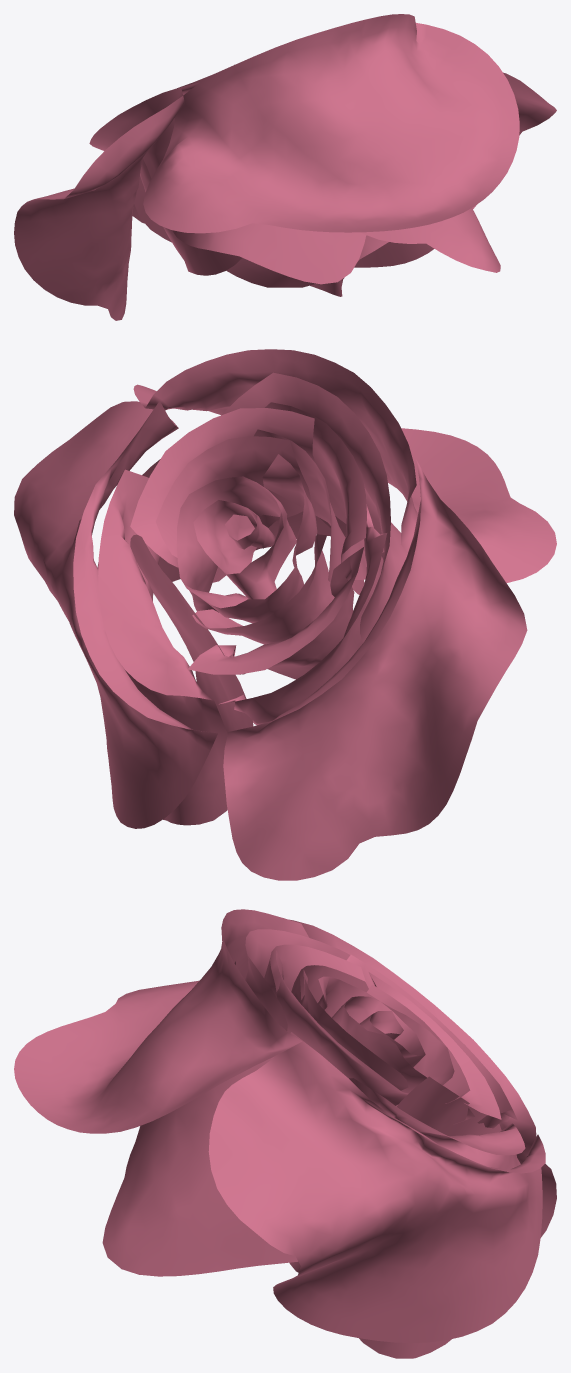
The model's file is user-flower.glb.
3 renders of one model, top to bottom at view 1: azimuth 30°, elevation 25°; view 2: azimuth 150°, elevation 25°; view 3: azimuth 270°, elevation 25°, orthographic. The views are drawn at different scales.
Parts seen in each view (by area): view 1: User flower · normalized original OBJ; view 2: User flower · normalized original OBJ; view 3: User flower · normalized original OBJ.
Boxes of the visible parts, box(x1,y1,x2,y2) form: User flower · normalized original OBJ: box(14, 14, 556, 320); User flower · normalized original OBJ: box(14, 349, 556, 880); User flower · normalized original OBJ: box(14, 909, 556, 1358).
Bounding box in the file's own units: 1 × 0.7034 × 0.8835.
